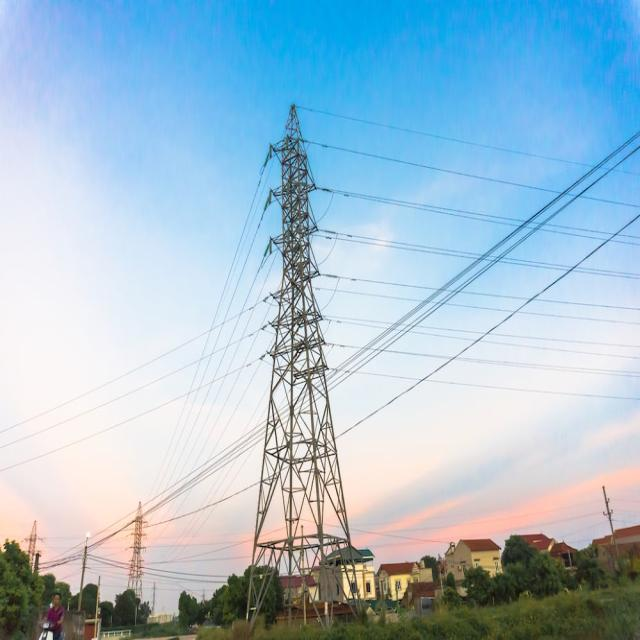transmission tower: (199, 85, 389, 568), (119, 489, 172, 600)
